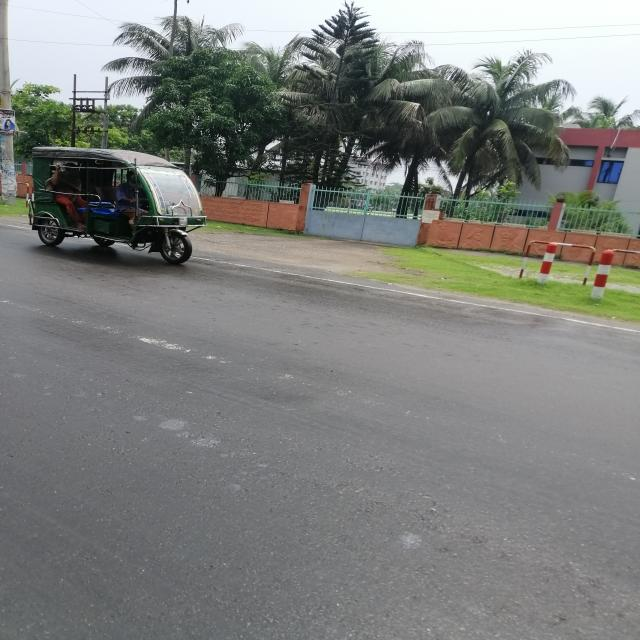Easybike: (10, 135, 235, 284)
